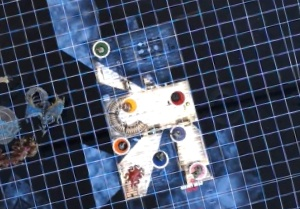green: (88, 34, 115, 61)
orange: (110, 134, 133, 158)
pink: (185, 156, 209, 182)
red: (166, 87, 189, 112)
violet: (149, 146, 172, 169), (168, 122, 190, 145)
yellow: (117, 93, 142, 118)
